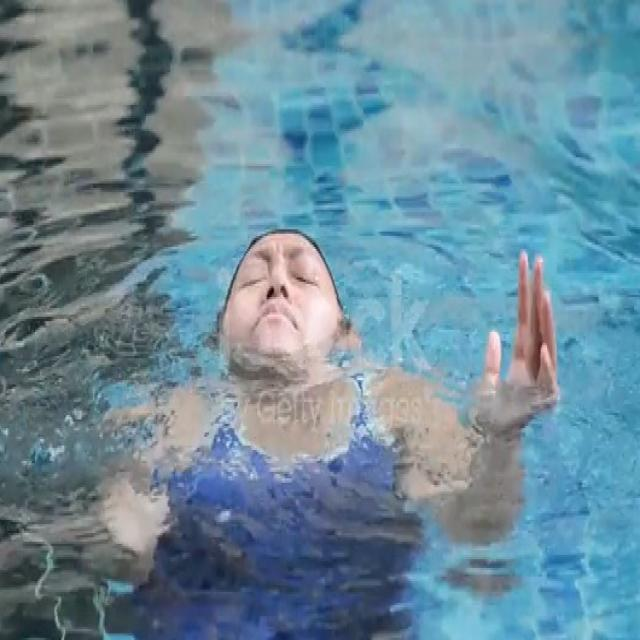Drowning: (104, 224, 556, 557)
